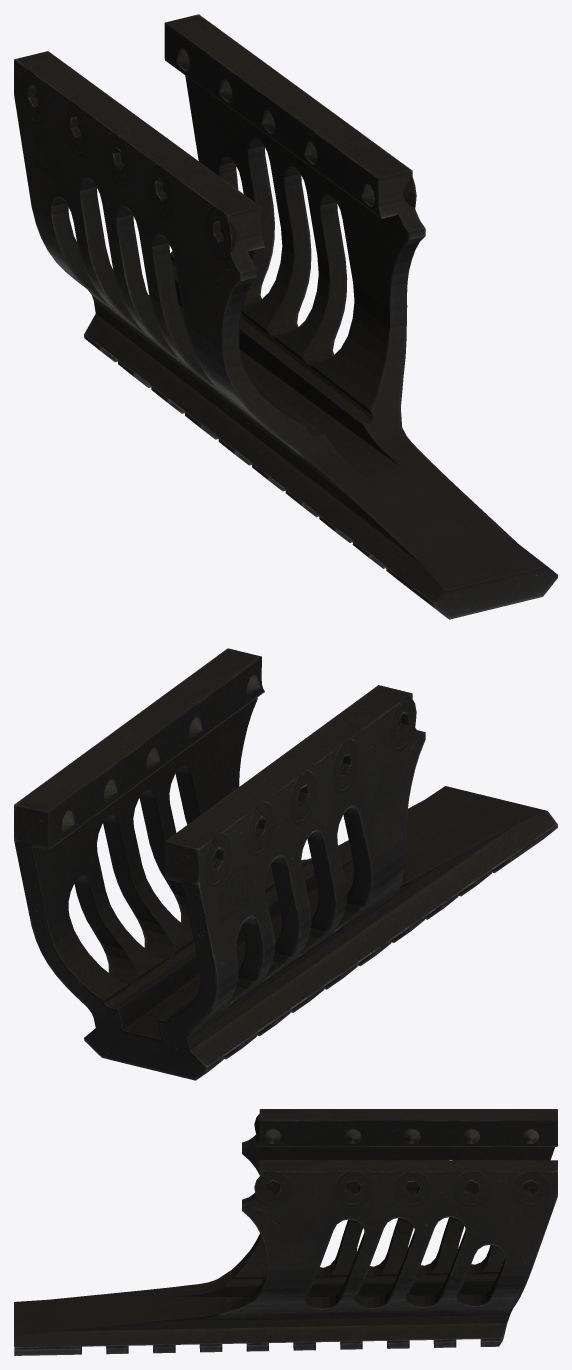
The picture shows the model from 3 angles, top to bottom: view 1: azimuth 30°, elevation 25°; view 2: azimuth 150°, elevation 25°; view 3: azimuth 270°, elevation 25°; orthographic projection. The views are drawn at different scales.
Parts seen in each view (by area): view 1: TW_5ef5d994dfbc9f3c660ded95_PZ_Import; view 2: TW_5ef5d994dfbc9f3c660ded95_PZ_Import; view 3: TW_5ef5d994dfbc9f3c660ded95_PZ_Import.
Boxes of the visible parts, box(x1,y1,x2,y2) form: TW_5ef5d994dfbc9f3c660ded95_PZ_Import: box(14, 14, 557, 619); TW_5ef5d994dfbc9f3c660ded95_PZ_Import: box(14, 648, 557, 1080); TW_5ef5d994dfbc9f3c660ded95_PZ_Import: box(14, 1109, 557, 1355).
Bounding box in the file's own units: 0.0184 × 0.0672 × 0.0272.
Materials: 1 (1 with a texture image).
